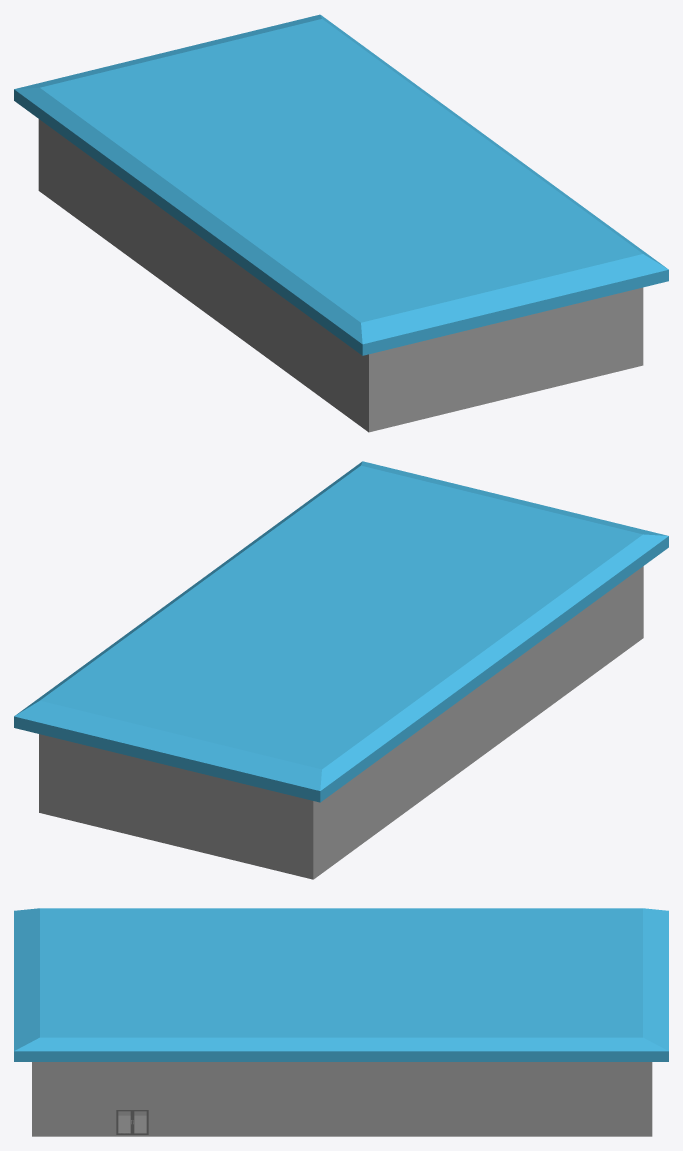
3 renders of one model, top to bottom at view 1: azimuth 30°, elevation 25°; view 2: azimuth 150°, elevation 25°; view 3: azimuth 270°, elevation 25°, orthographic. The views are drawn at different scales.
Visible parts, largest first — view 1: Cube.033, Plane.030; view 2: Cube.033, Plane.030; view 3: Cube.033, Plane.030.
Part boxes in pixels (x1,y1,x2,y2): Cube.033: (14, 14, 668, 355); Plane.030: (38, 119, 643, 432); Cube.033: (14, 461, 668, 802); Plane.030: (39, 566, 643, 879); Cube.033: (14, 908, 668, 1061); Plane.030: (32, 1062, 652, 1136).
Size of the model in its own units: 1481 by 496 by 2918.
